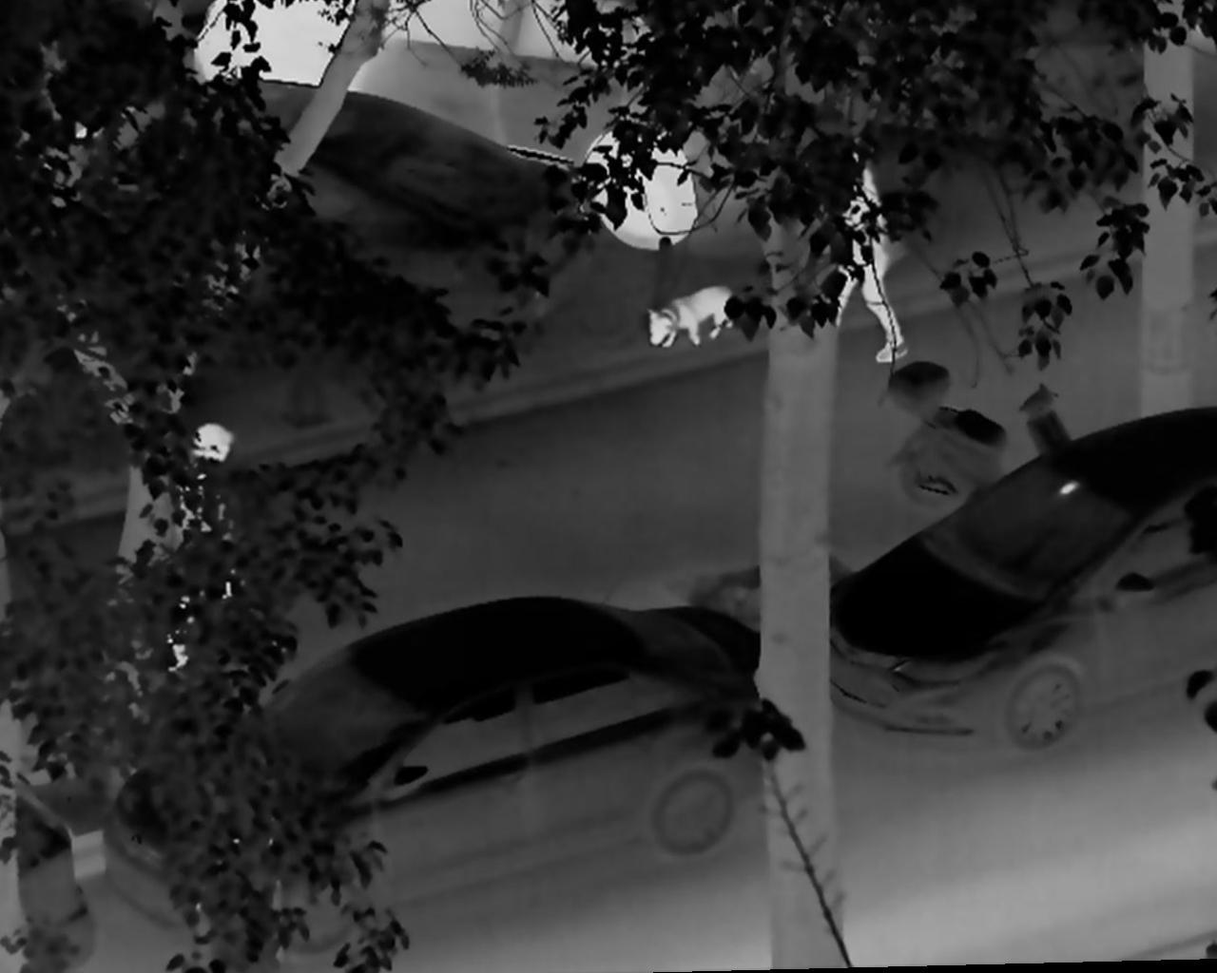person: (167, 421, 251, 670), (822, 146, 910, 366)
